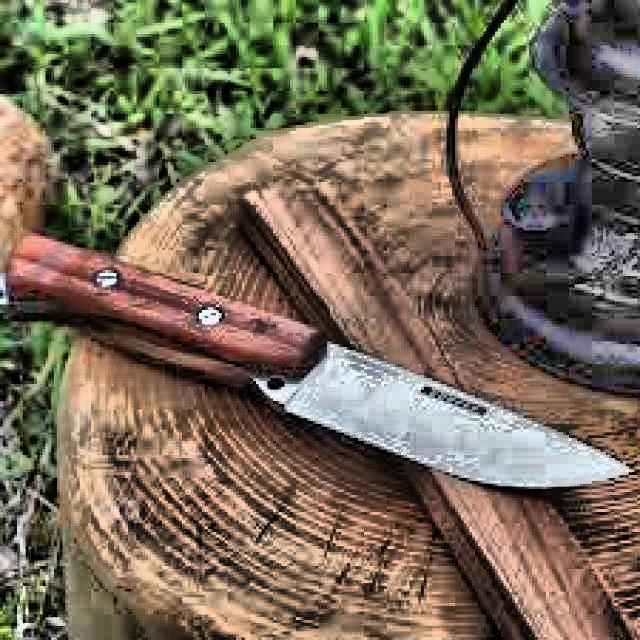knife: (4, 226, 638, 494)
